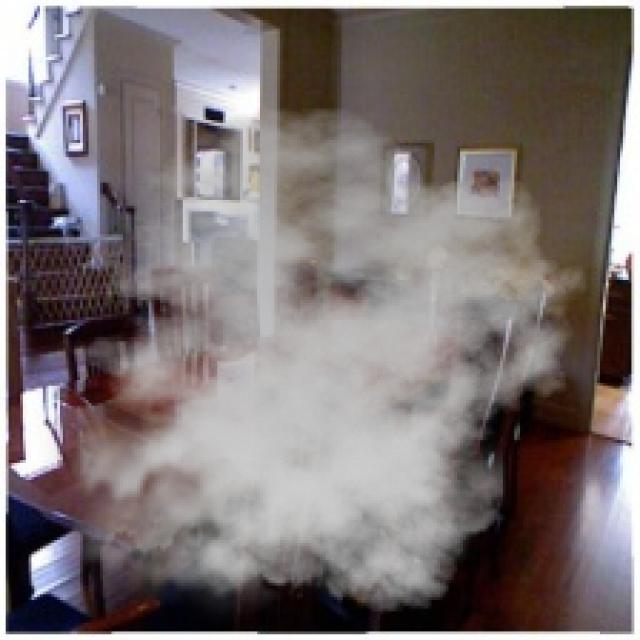smoke: (37, 106, 589, 628)
